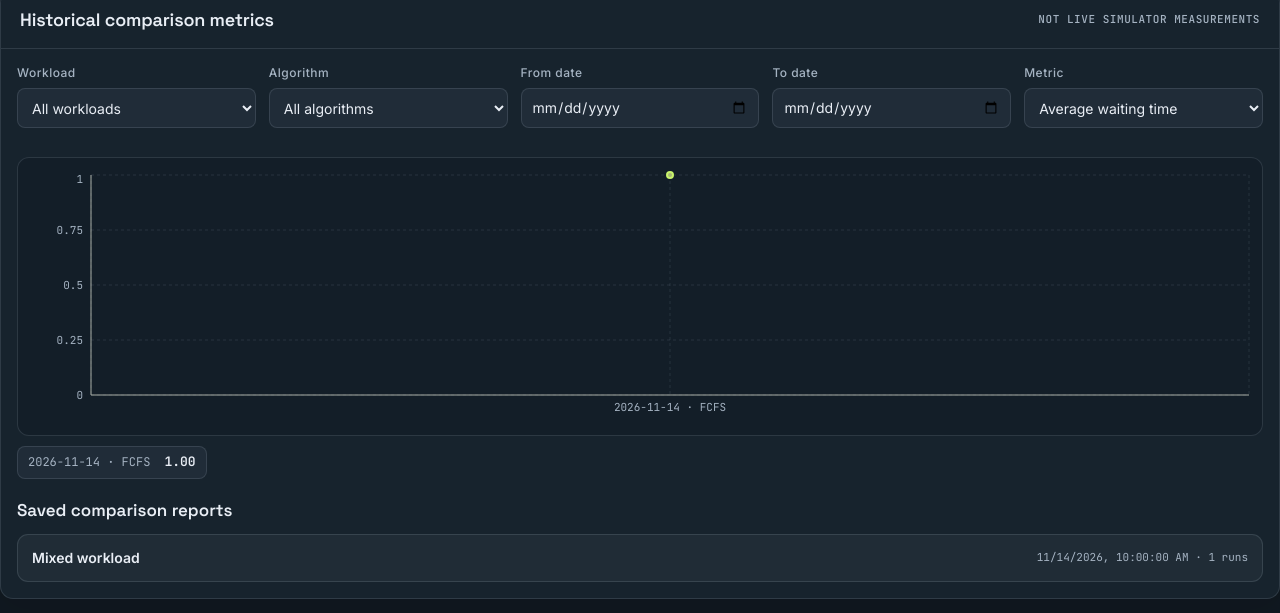
Scenario: System Analytics Observatory › opens a saved comparison report for historical detail
(page scrolled)
Click the button "Mixed workload 11/14/2026, 10:00:00 AM · 1 runs" at (86, 558), box [17,534,1263,582]
(page scrolled)
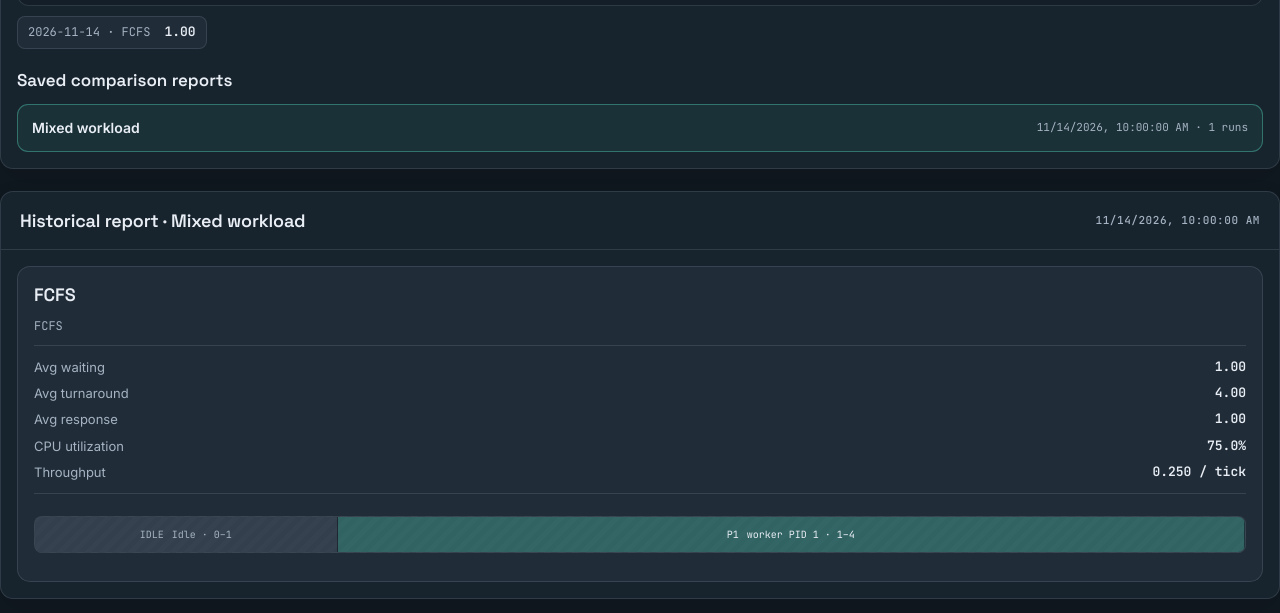
Now the heading "Historical report · Mixed workload" is shown, box [20,208,305,232]
Now the text "Avg turnaround" is shown, box [34,385,129,401]
